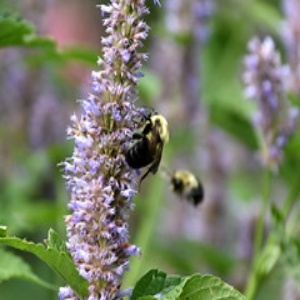bee: (125, 109, 169, 196), (172, 167, 204, 210)
